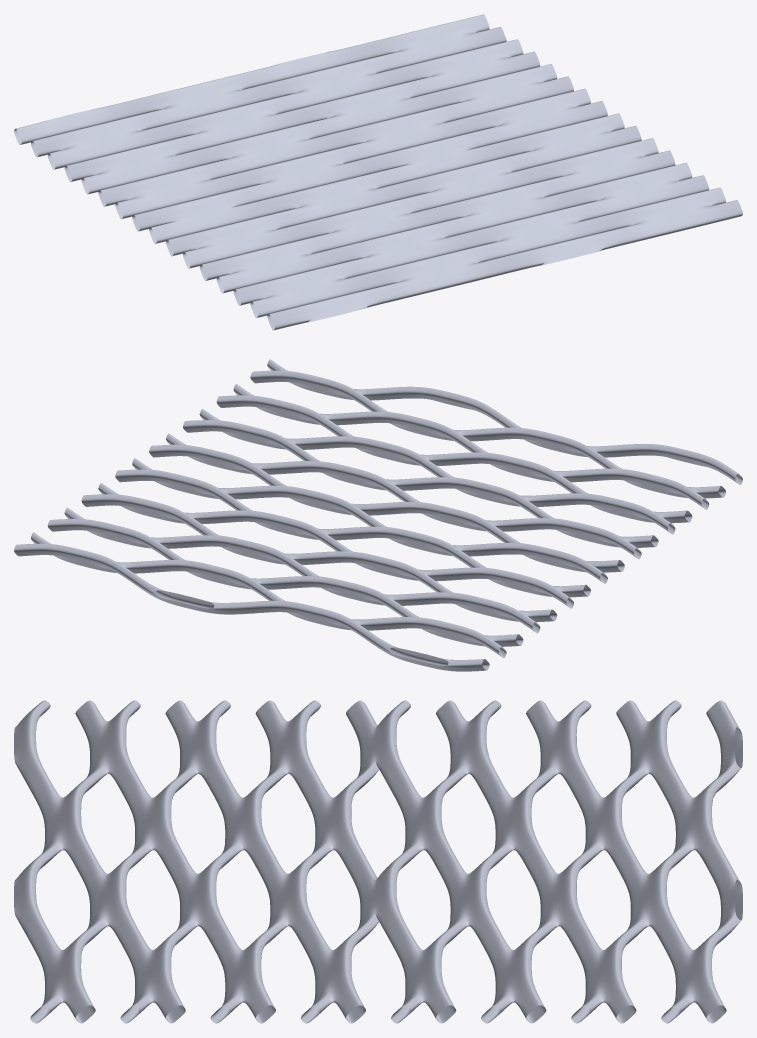
3 renders of one model, top to bottom at view 1: azimuth 30°, elevation 25°; view 2: azimuth 150°, elevation 25°; view 3: azimuth 270°, elevation 25°, orthographic. The views are drawn at different scales.
Visible parts, largest first — view 1: Empty_Mesh_gr1_0; view 2: Empty_Mesh_gr1_0; view 3: Empty_Mesh_gr1_0.
Boxes of the visible parts, x1=… form: Empty_Mesh_gr1_0: x1=14, y1=14, x2=742, y2=330; Empty_Mesh_gr1_0: x1=14, y1=359, x2=742, y2=671; Empty_Mesh_gr1_0: x1=14, y1=700, x2=742, y2=1023.
Bounding box in the file's own units: 1600 × 80.28 × 1618.
